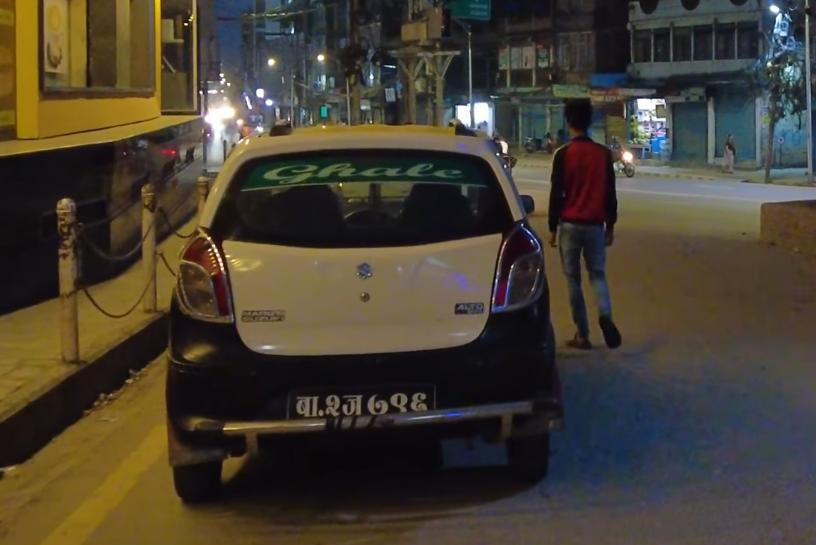taxi: (153, 112, 574, 512)
